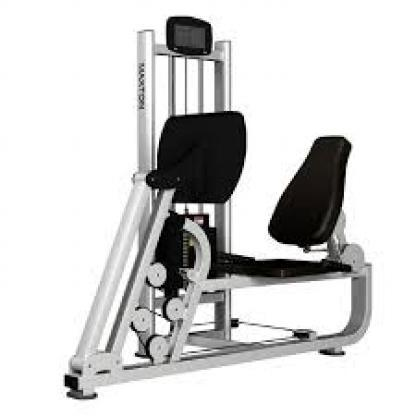leg press: (52, 10, 378, 400)
